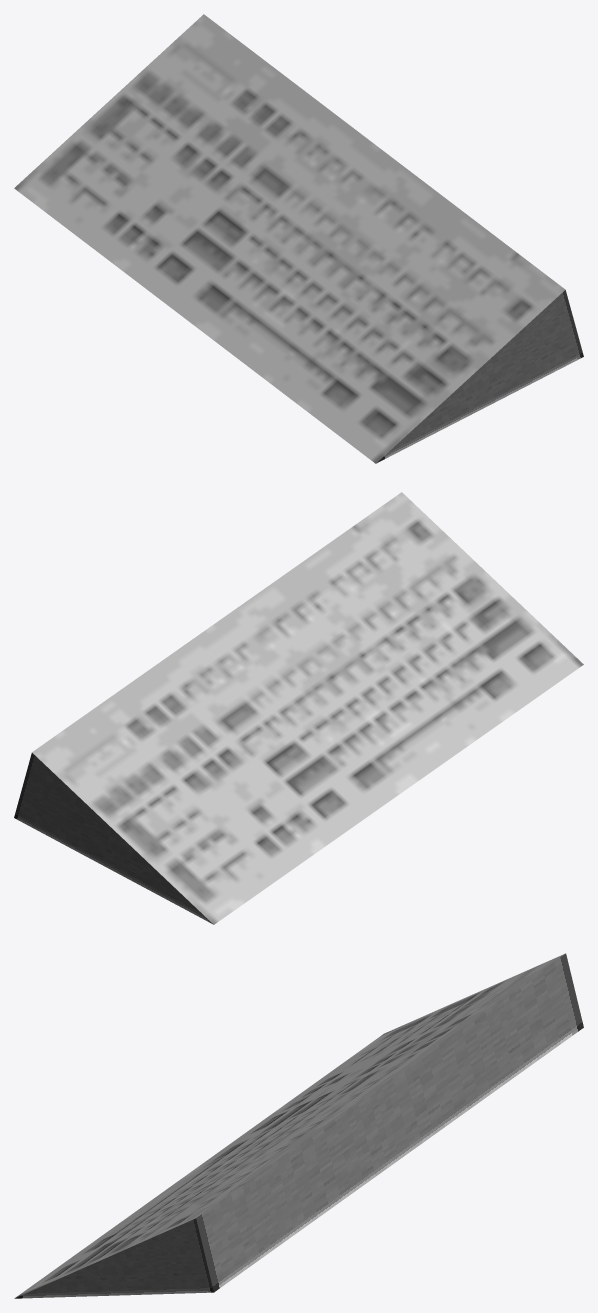
The model's file is primary_178.glb.
3 renders of one model, top to bottom at view 1: azimuth 30°, elevation 25°; view 2: azimuth 150°, elevation 25°; view 3: azimuth 330°, elevation 25°, orthographic. The views are drawn at different scales.
Visible parts, largest first — view 1: Object; view 2: Object; view 3: Object.
Boxes of the visible parts, x1=… form: Object: x1=14, y1=14, x2=583, y2=463; Object: x1=14, y1=492, x2=583, y2=924; Object: x1=14, y1=953, x2=583, y2=1298.
Size of the model in its own units: 0.1991 by 0.1167 by 0.5964.
Materials: 4 (4 with a texture image).
